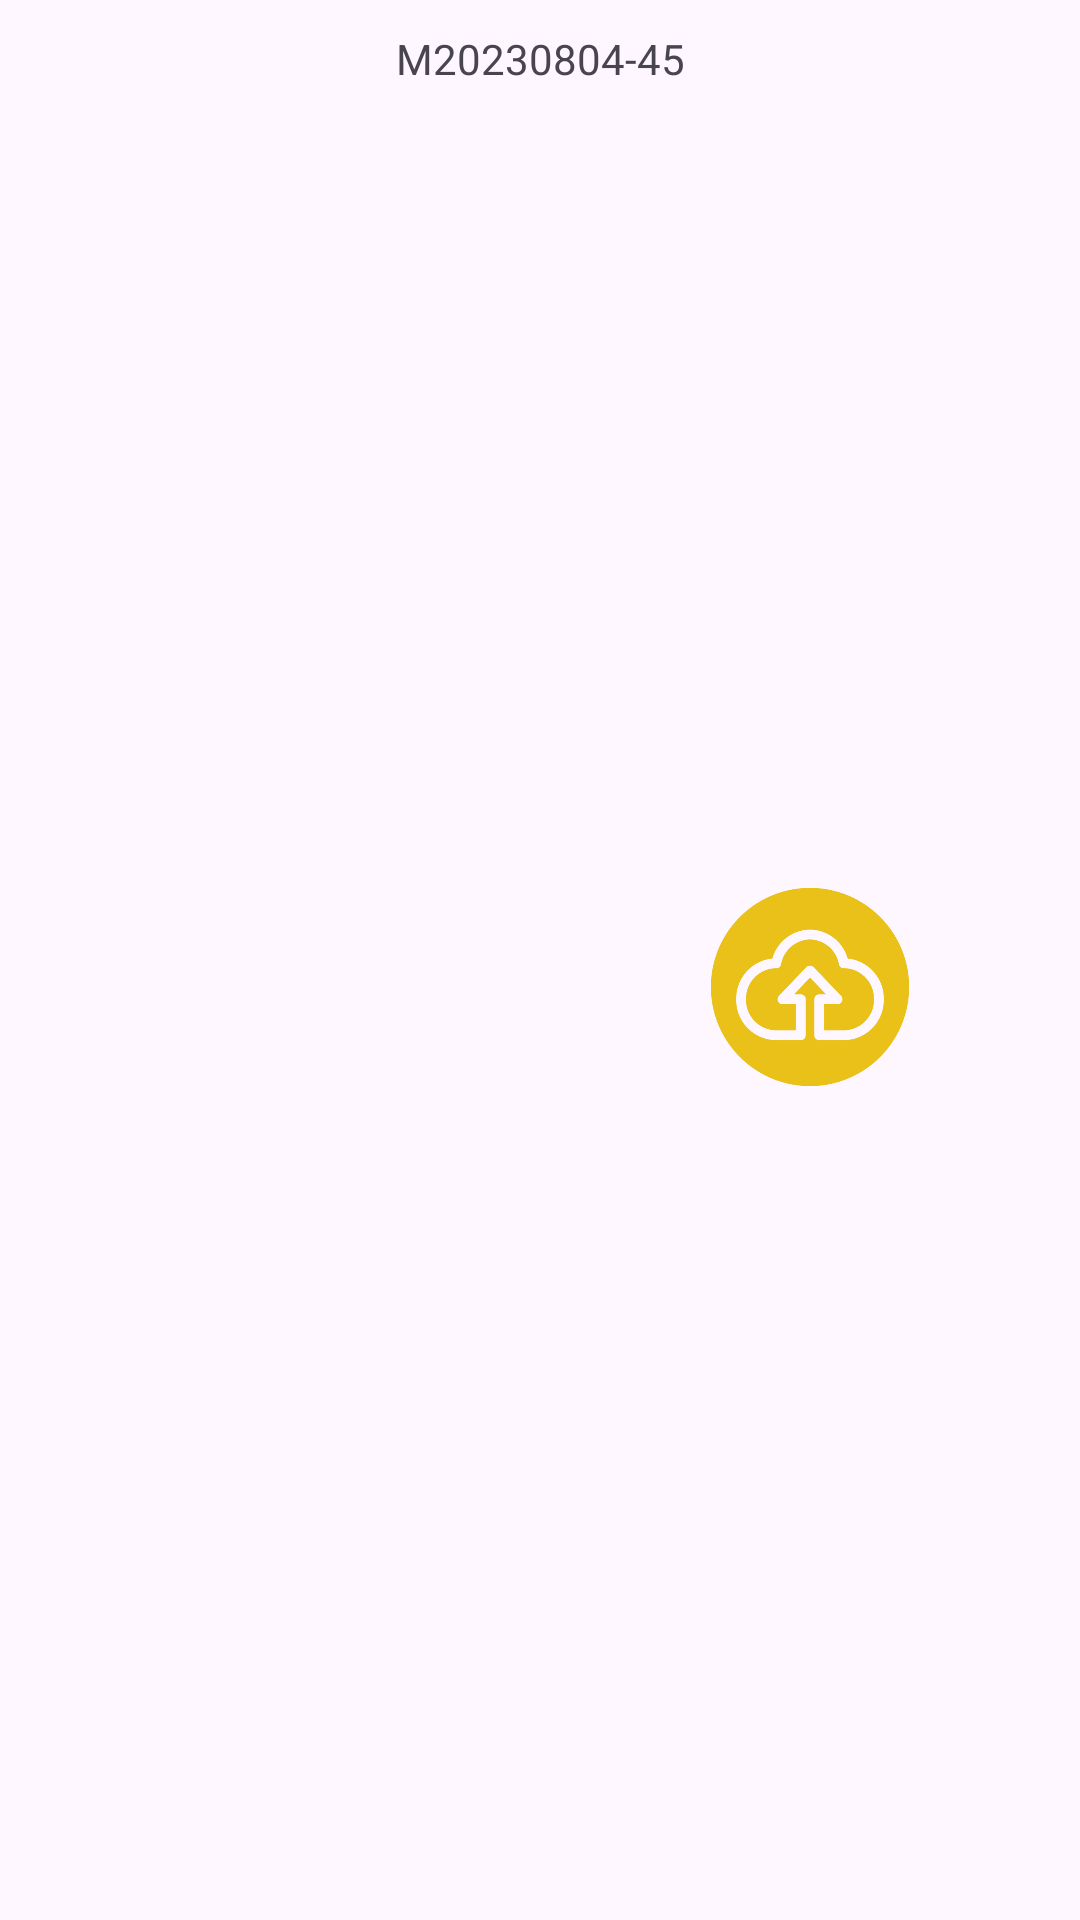

Where icons sit on this 1080x1920 app screen, as (x1, y1, x2, y2):
uploadimg: (711, 888, 909, 1086)
